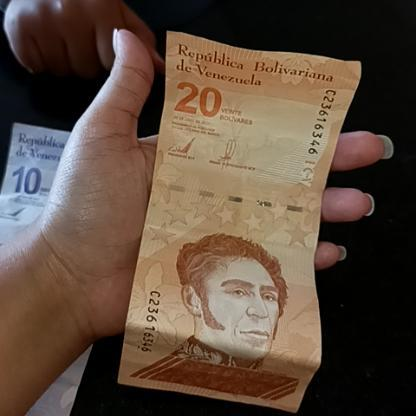vef_front: (116, 33, 361, 416)
